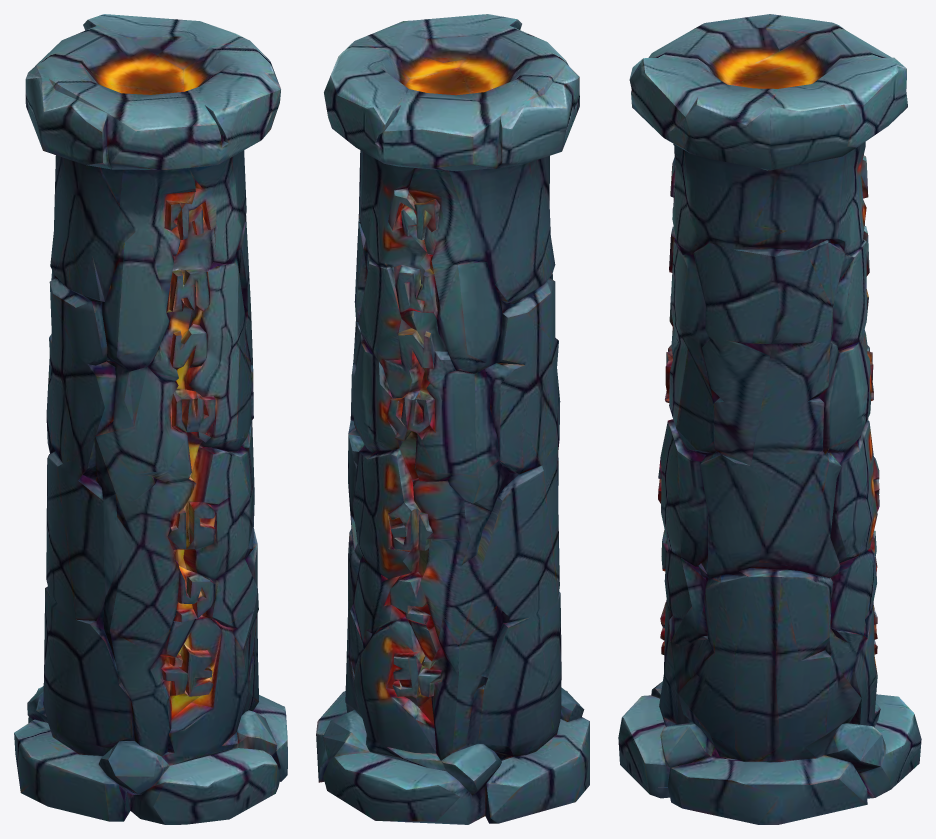
Rendered from prop_pillar.glb.
The picture shows the model from 3 angles, left to right: view 1: azimuth 30°, elevation 25°; view 2: azimuth 150°, elevation 25°; view 3: azimuth 270°, elevation 25°; orthographic projection.
Size of the model in its own units: 0.7164 by 1.9 by 0.74.
1 material, 1 textured.
